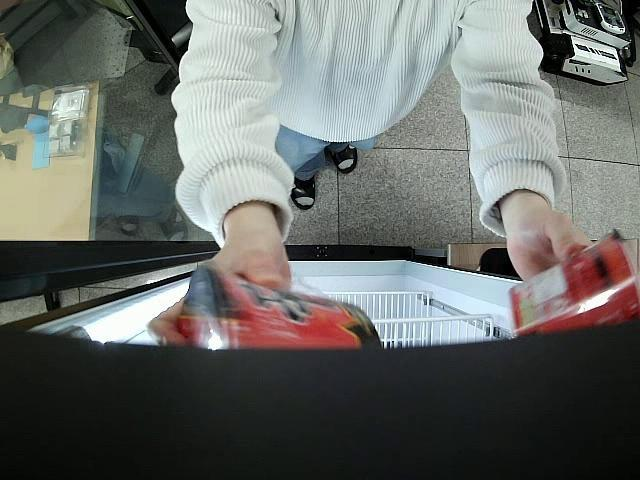01_ShinRamen_L: (172, 268, 386, 353), (509, 228, 640, 336)
